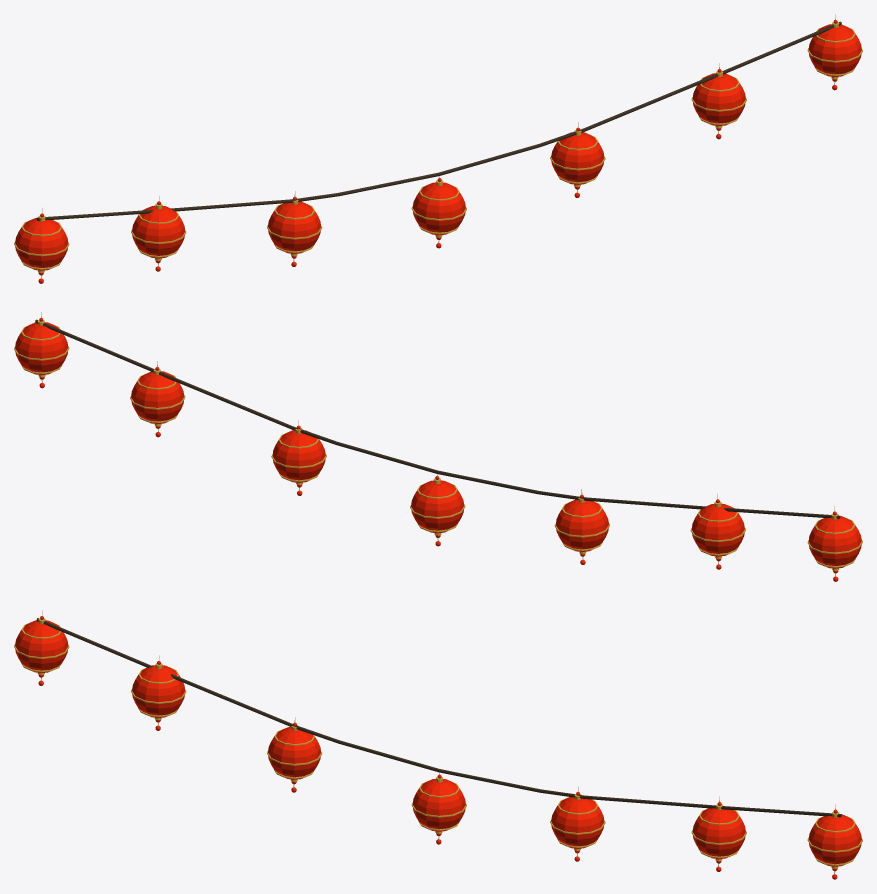
File: Lantern_7.fbx
3 renders of one model, top to bottom at view 1: azimuth 30°, elevation 25°; view 2: azimuth 150°, elevation 25°; view 3: azimuth 330°, elevation 25°, orthographic.
Parts seen in each view (by area): view 1: Lantern_7; view 2: Lantern_7; view 3: Lantern_7.
Part boxes in pixels (box(x1,y1,x2,y2)): Lantern_7: box(14, 14, 862, 283); Lantern_7: box(14, 312, 862, 581); Lantern_7: box(14, 610, 862, 879).
Bounding box in the file's own units: 731 × 114 × 41.71.
